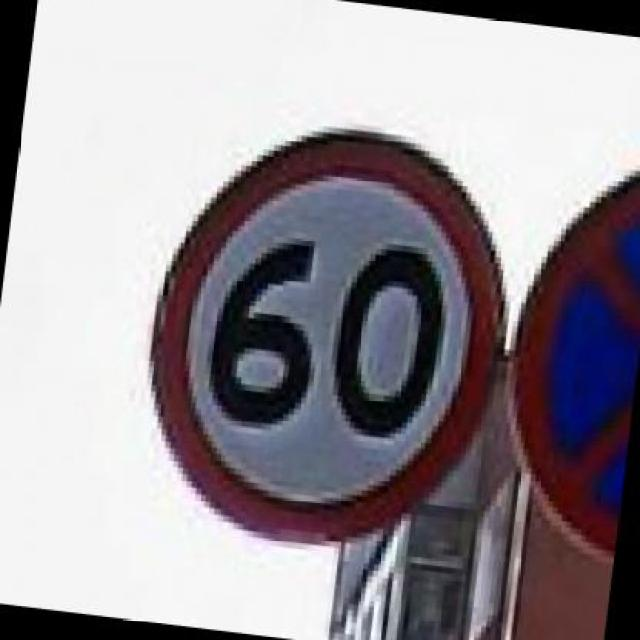Limite-60: (146, 124, 509, 539)
